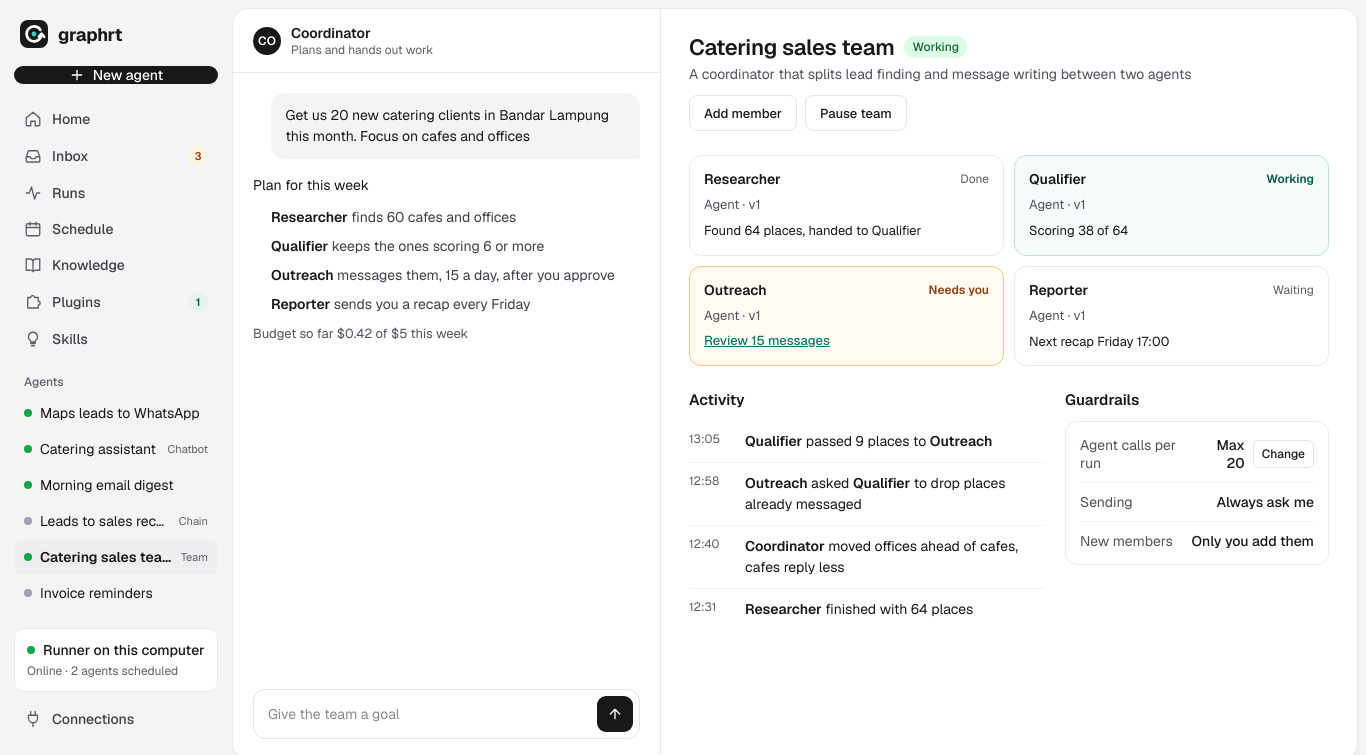
TeamPage › adds one of your agents as a member
Click the button "Add member" at (743, 113), box top-left (689, 95), bottom-right (797, 131)
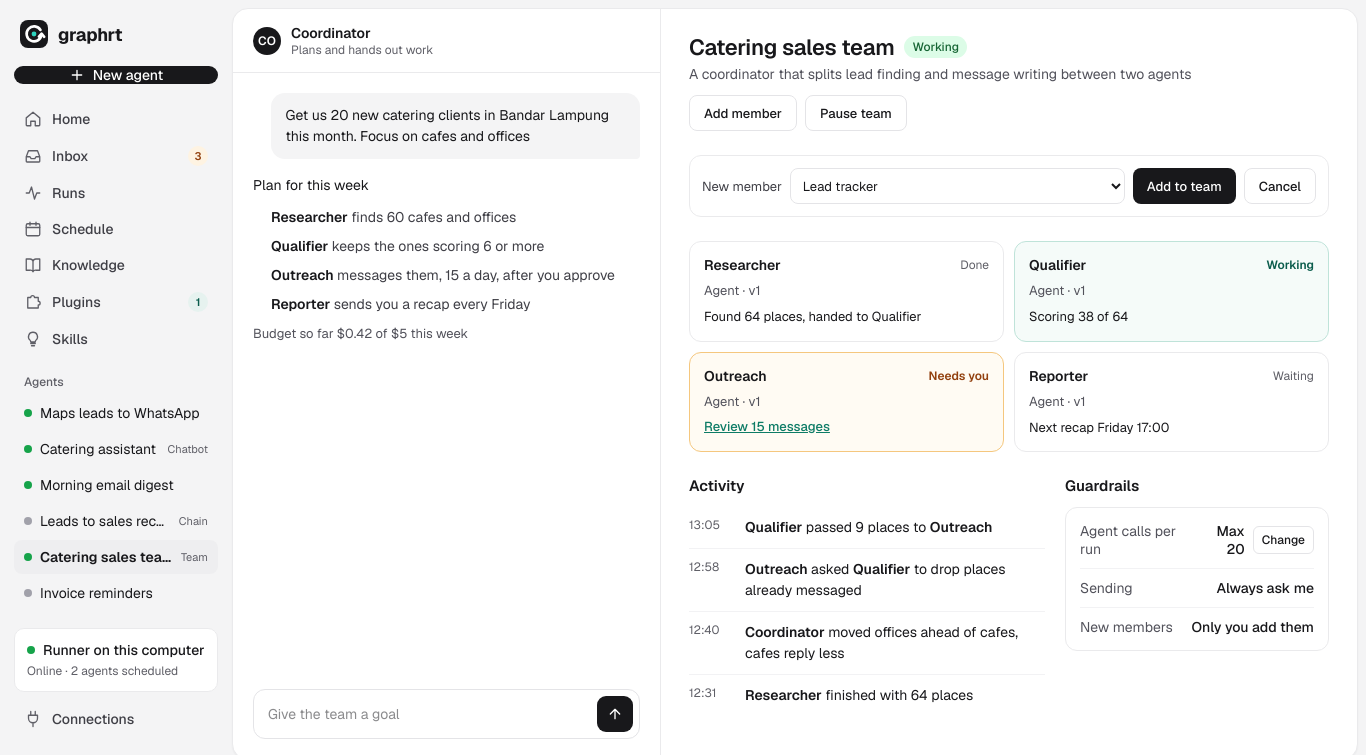
Select "Translate to Bahasa" in the dropdown labelled "New member" at (957, 186), box top-left (790, 168), bottom-right (1125, 204)
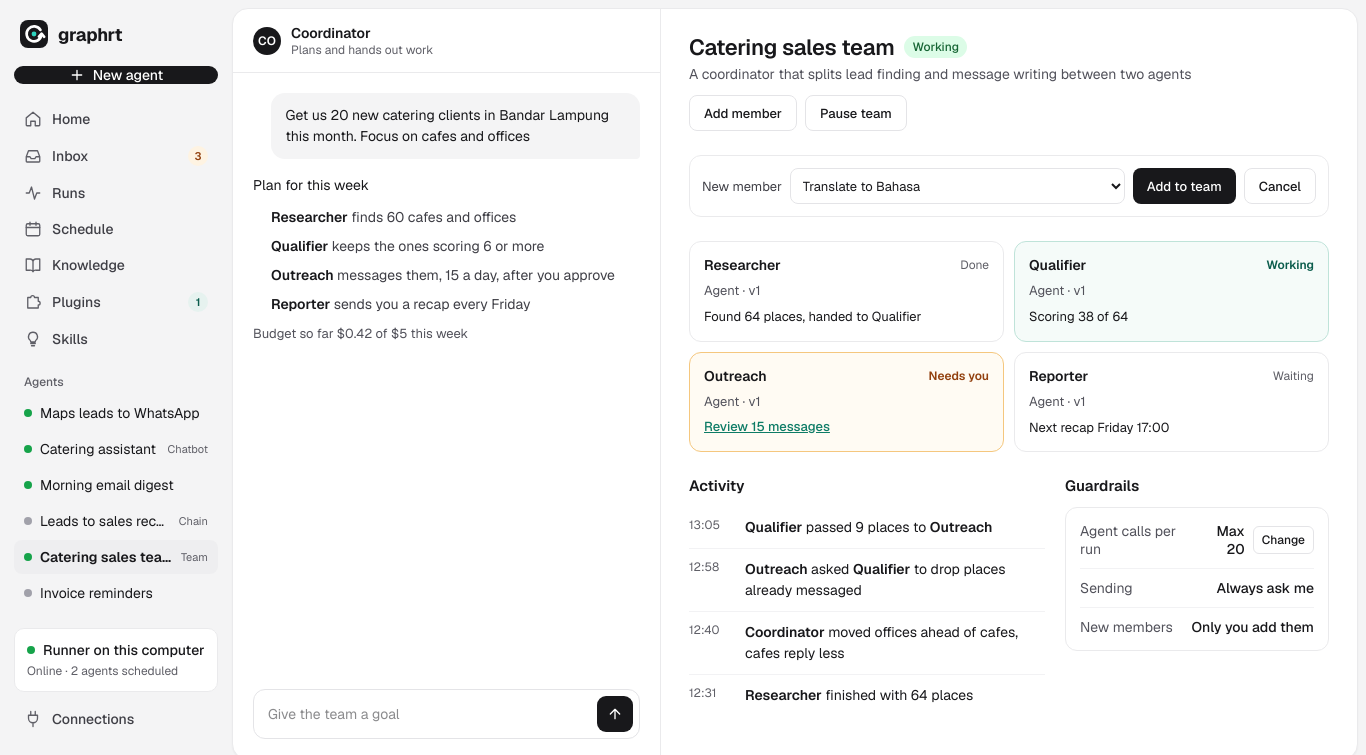
Click the button "Add to team" at (1184, 186), box top-left (1133, 168), bottom-right (1236, 204)
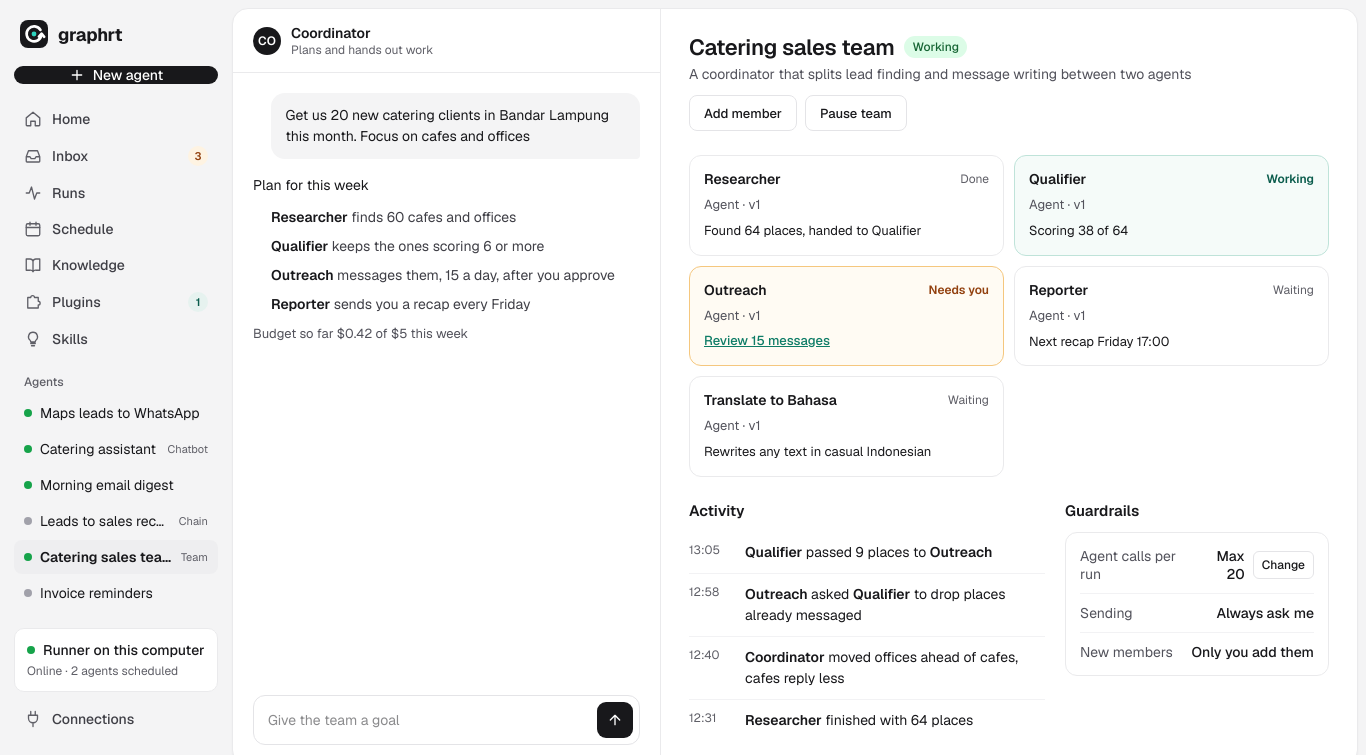
Now the text "Translate to Bahasa" is shown, box top-left (704, 391), bottom-right (837, 409)
Now the button "Add to team" is gone
